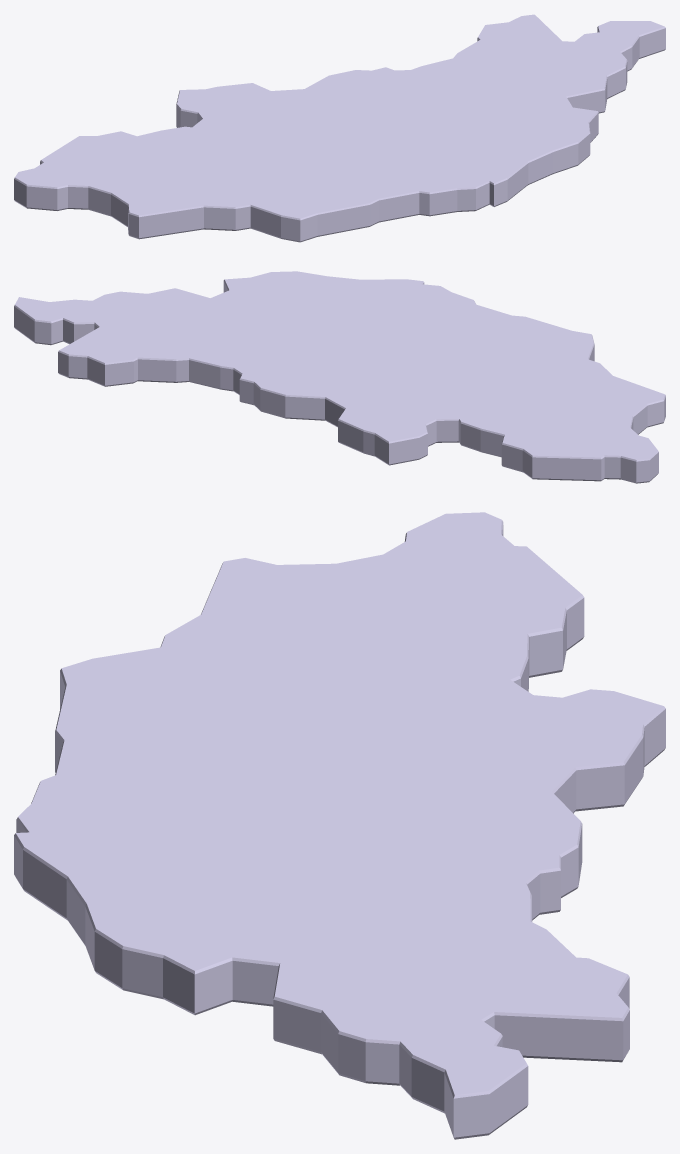
File: MNG.glb
3 renders of one model, top to bottom at view 1: azimuth 30°, elevation 25°; view 2: azimuth 150°, elevation 25°; view 3: azimuth 270°, elevation 25°, orthographic. The views are drawn at different scales.
Size of the model in its own units: 1.92 by 0.068 by 0.9065.
